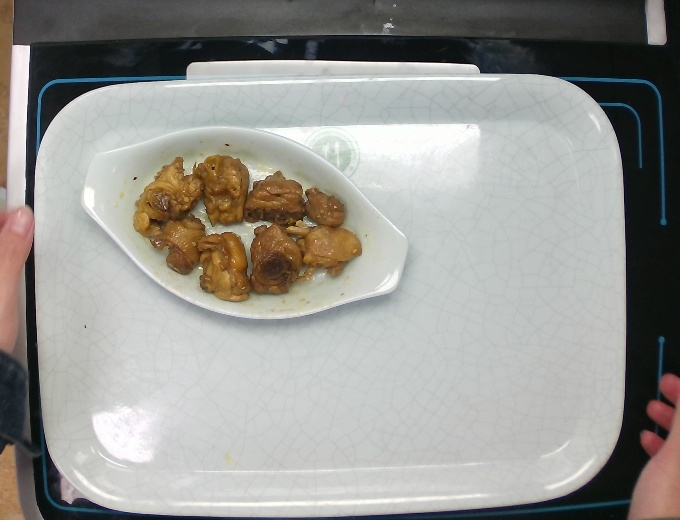JYsf-Yu_Pan: (77, 123, 410, 321)
